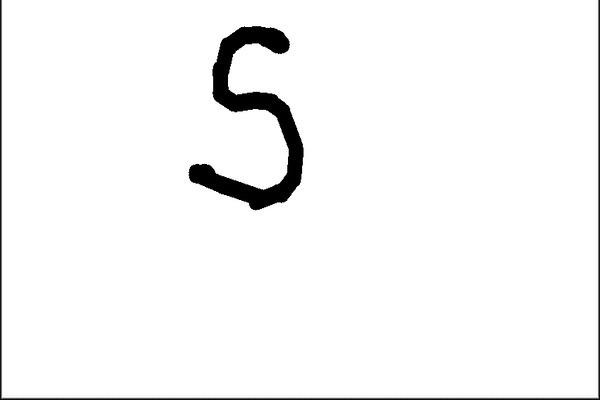S: (190, 14, 313, 224)
